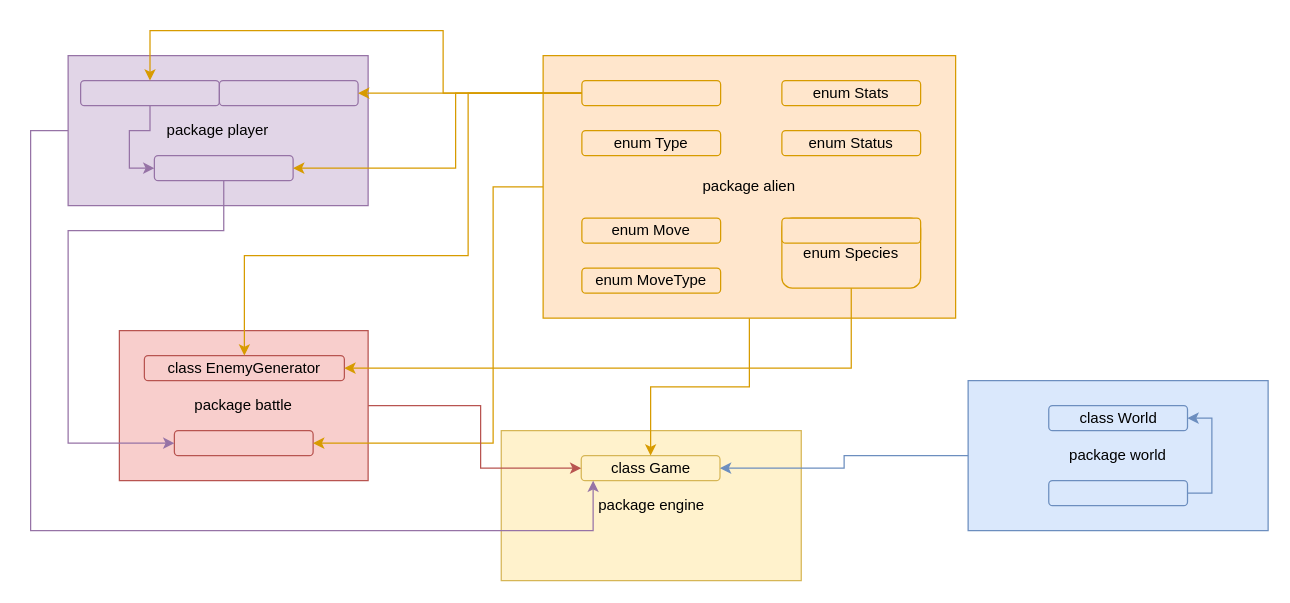
The diagram is 1290 pixels wide and 603 high, and some of its shapes have lost their labels. The shapes that lost their labels are listed below. From the top down, each one's centre as x and y in pixels, then its label:
At point 149,92: "class Backpack".
At point 288,92: "class Healer".
At point 651,92: "class Alien".
At point 223,167: "class Player".
At point 851,230: "enum OG".
At point 243,442: "class Battle".
At point 1118,492: "enum Event".
